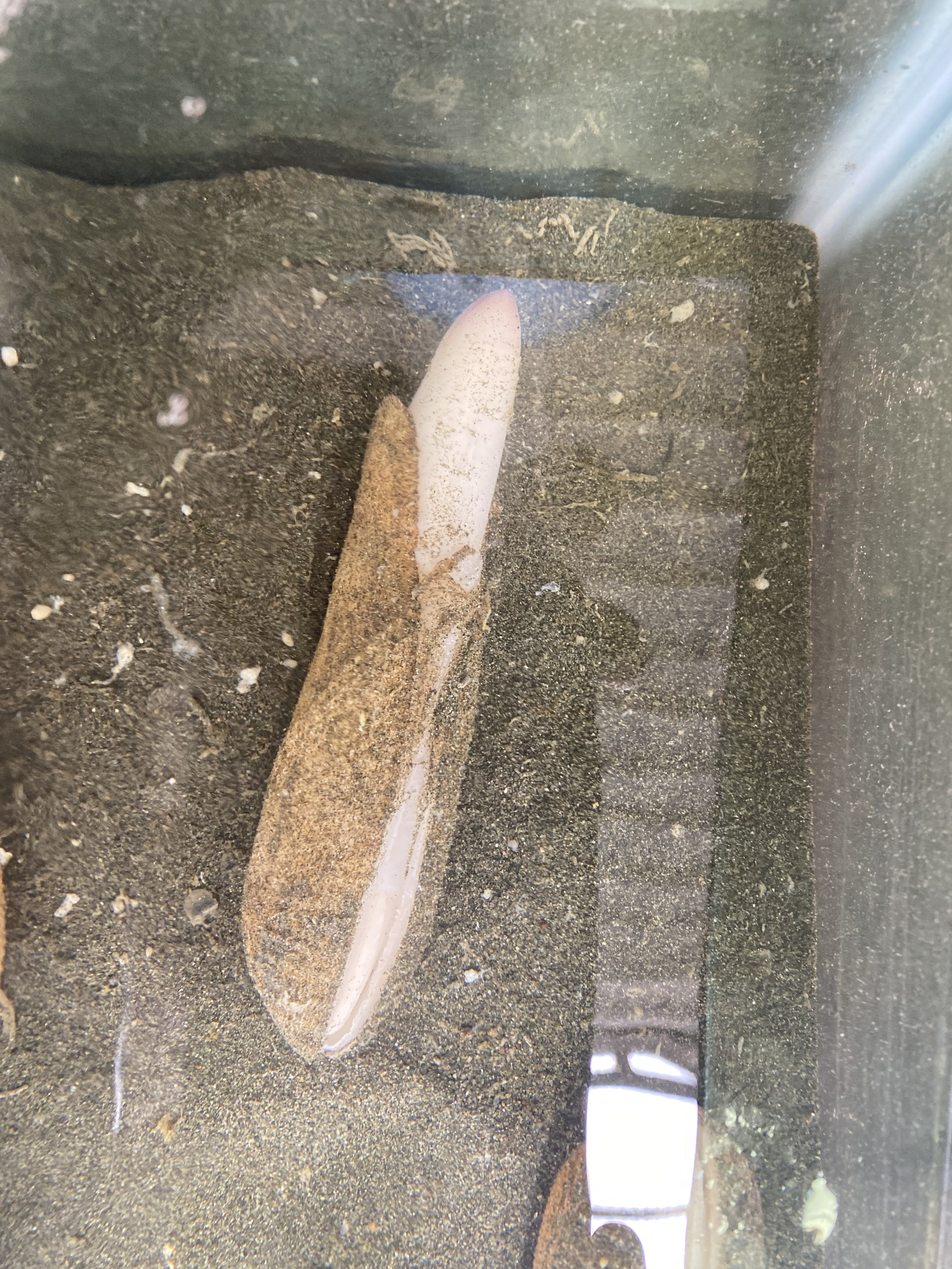Healthy: (243, 291, 519, 1061)
